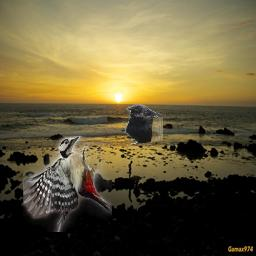Crow: (124, 104, 163, 145)
Woodpecker: (23, 136, 112, 232)
